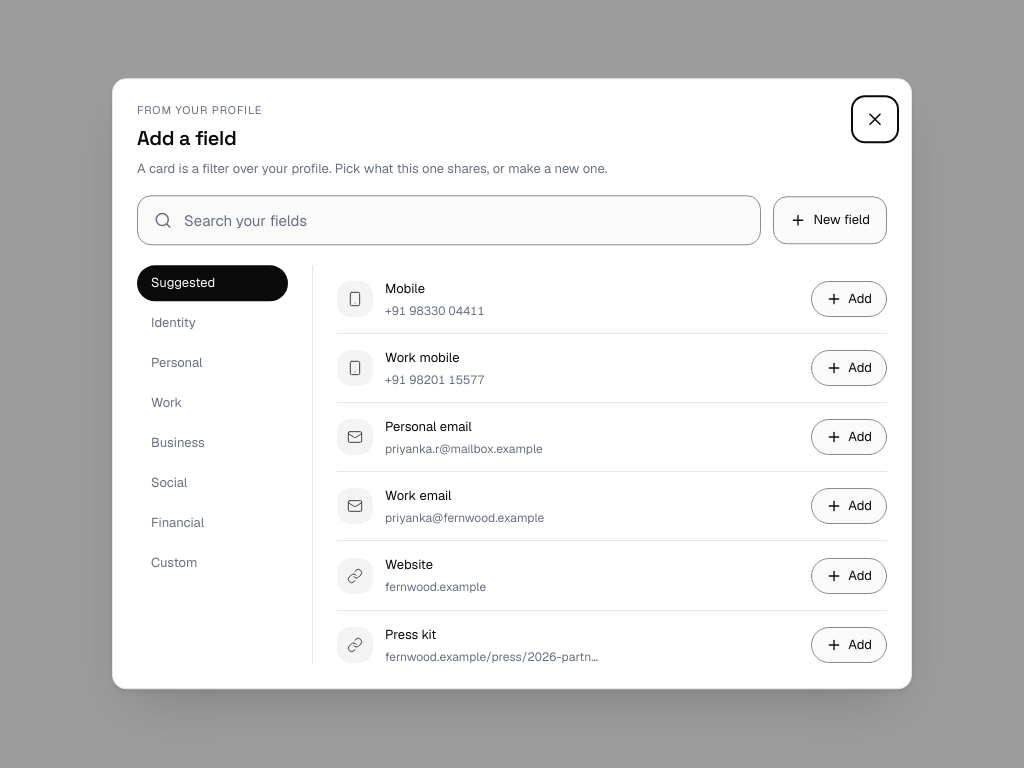
Scenario: creating a field › refuses a blank value locally rather than spending a round trip to be told
The width and height of the screenshot is (1024, 768).
Click the button "New field". click: (830, 220)
box: [773,196,887,244]
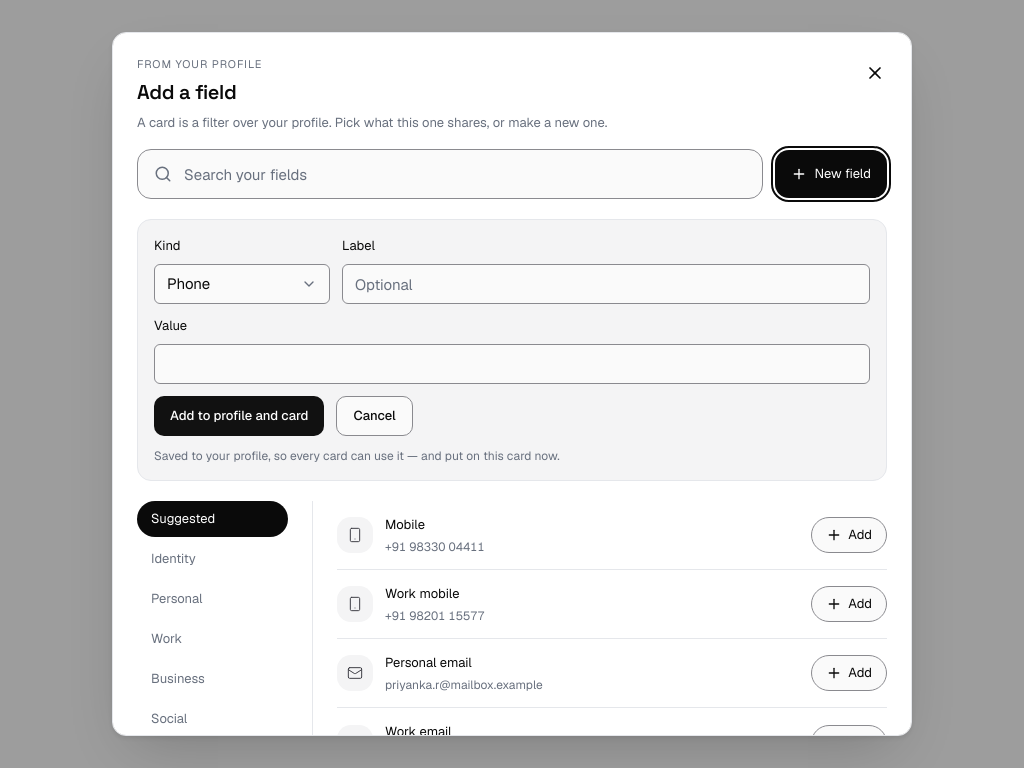
Click the button "Add to profile and card". click: (239, 416)
box: [154,396,324,436]
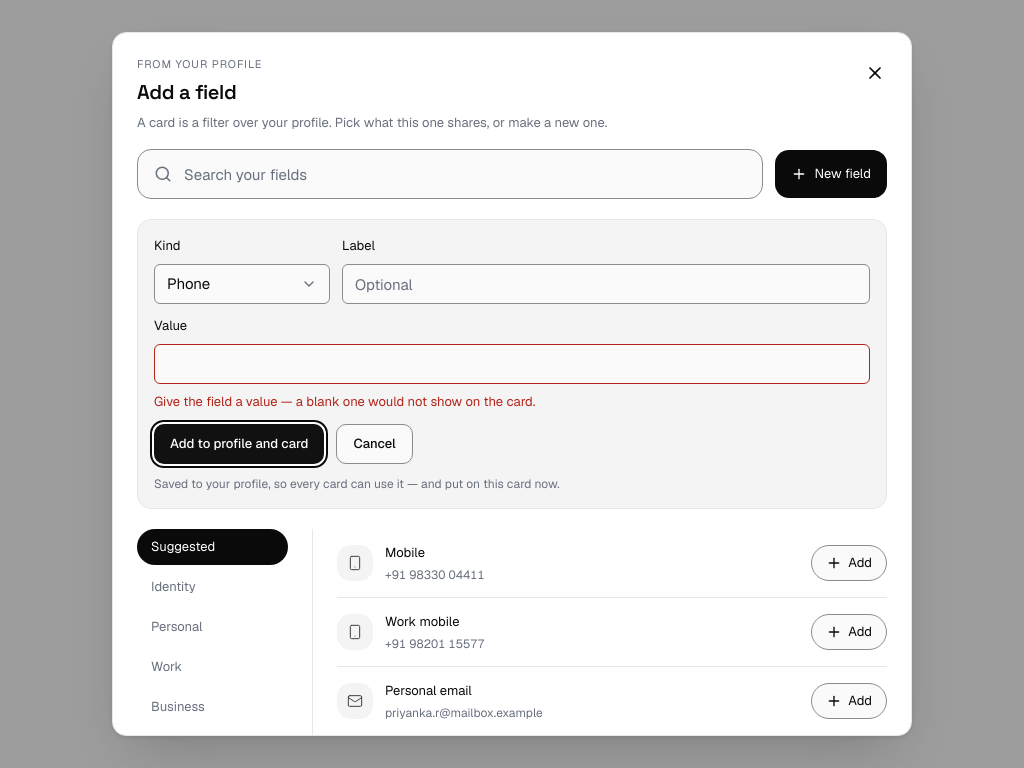
expect the text "Give the field a value — a blank one would not show on the card." is shown: met, box [154,393,535,410]
